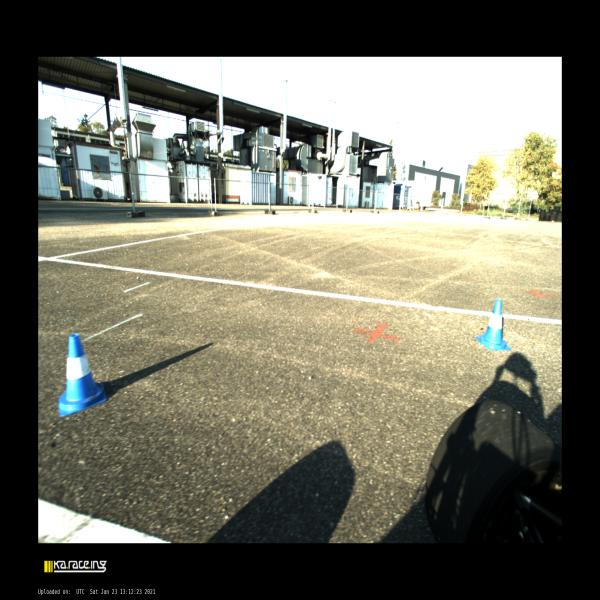blue_cone: (59, 334, 106, 416), (475, 299, 511, 350)
